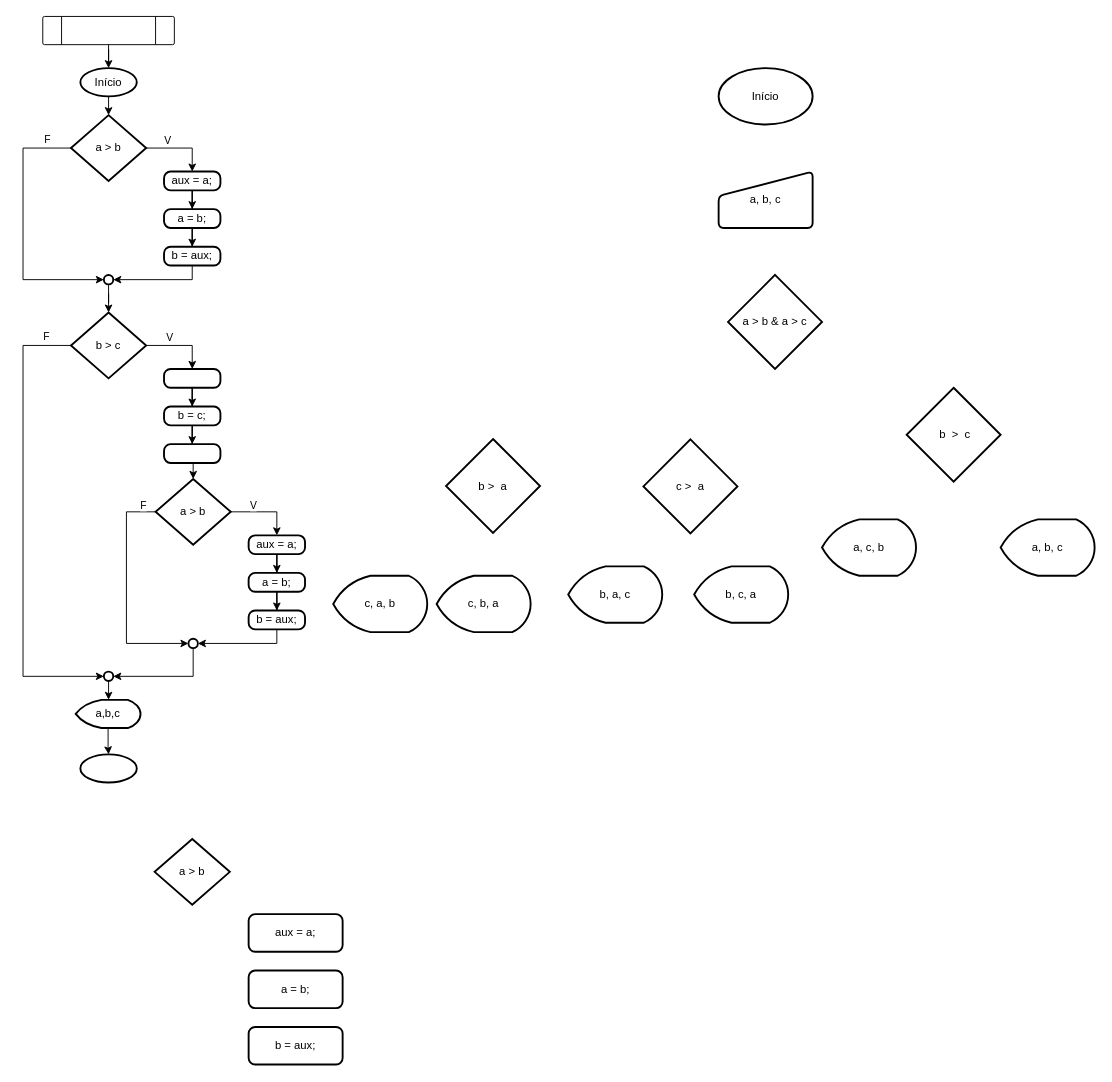
Some shapes in this 1112 by 1082 pixel diagram are drawn without their labels. Each missing label, with the centre of its shape:
"aux = b;" belongs at pixel 192 378.
"c = aux;" belongs at pixel 192 453.
"Fim" belongs at pixel 108 768.
"pc (a, b, c)" belongs at pixel 108 30.
